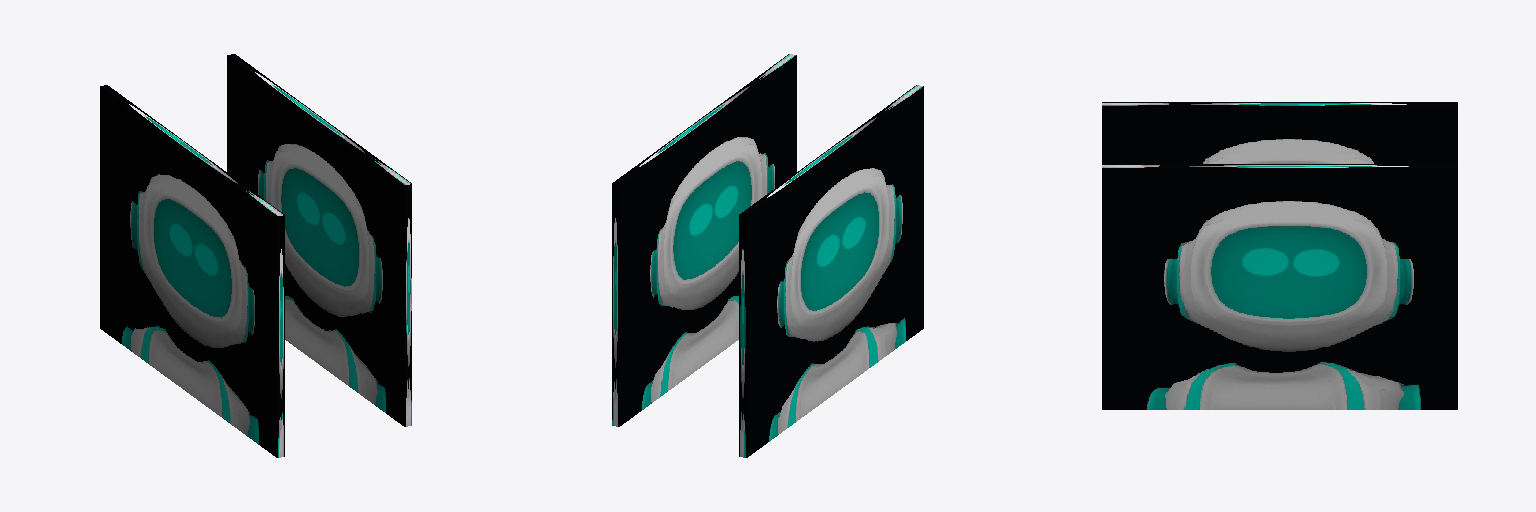
3 renders of one model, left to right at view 1: azimuth 30°, elevation 25°; view 2: azimuth 150°, elevation 25°; view 3: azimuth 270°, elevation 25°, orthographic.
Bounding box in the file's own units: 21.22 × 36.23 × 48.34.
1 materials, 1 textured.